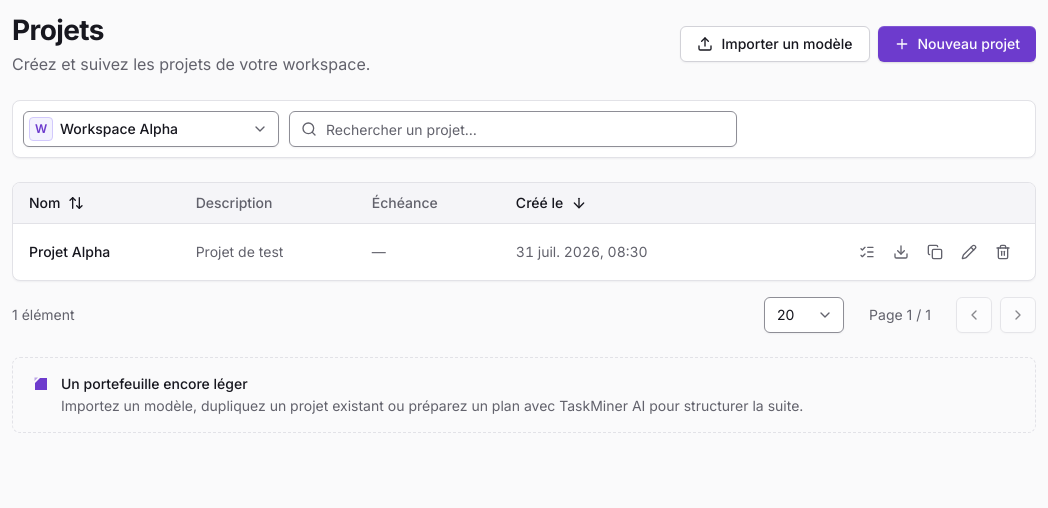
ProjectsPage › switches project, permission and quota context from owner to member and back
Check: the text "Projet Alpha" is shown, box [29,242,110,260]
Check: the button "Nouveau projet" is enabled, box [878,26,1036,62]
Select "Workspace invité" in the dropdown named "Workspace actif" at (151, 129), box [23,111,279,147]
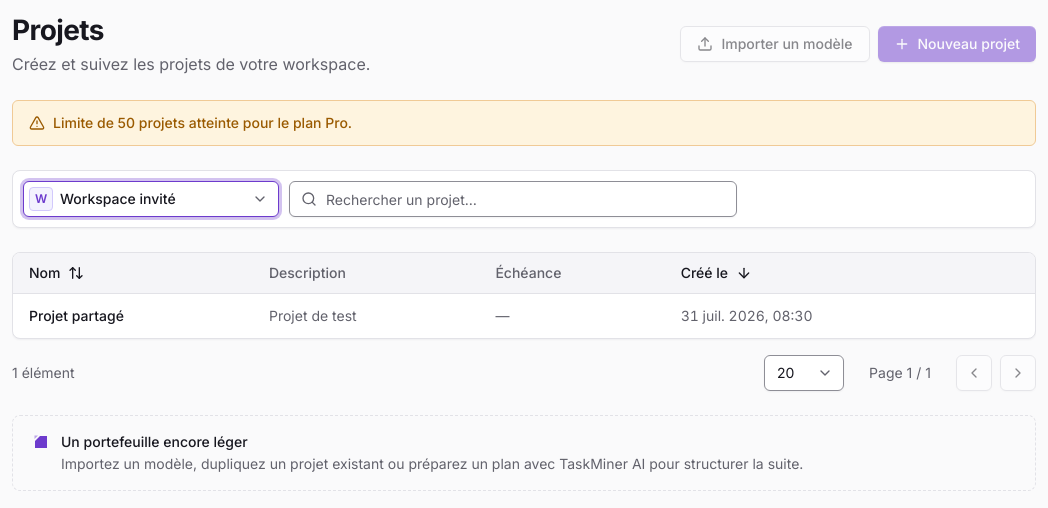
Check: the text "Projet partagé" is shown, box [29,306,124,324]
Check: the text "Projet Alpha" is gone
Check: the text "Limite de 50 projets atteinte pour le plan Pro." is shown, box [12,100,1036,146]
Select "Workspace Alpha" in the dropdown named "Workspace actif" at (151, 199), box [23,181,279,217]
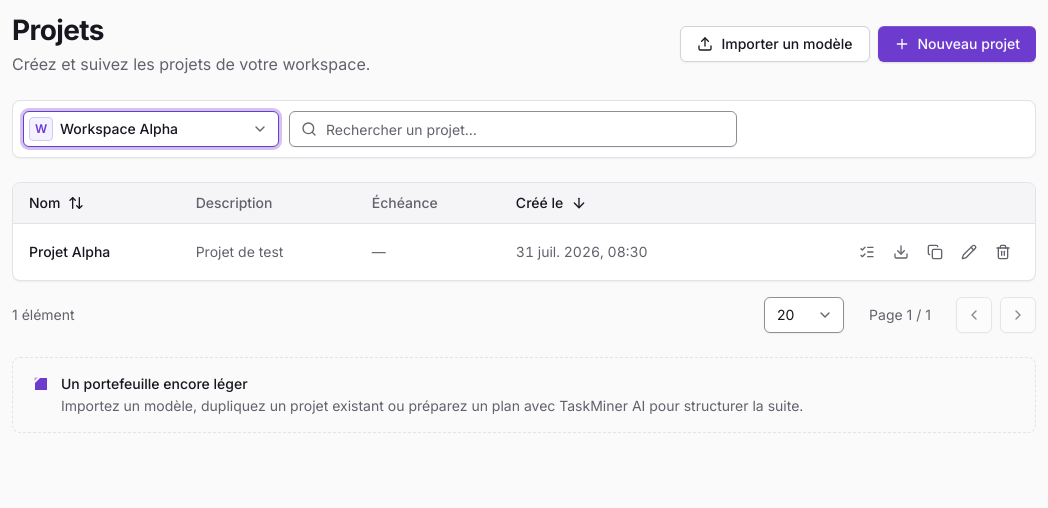
Check: the text "Projet Alpha" is shown, box [29,242,110,260]
Check: the text "Projet partagé" is gone
Check: the button "Nouveau projet" is enabled, box [878,26,1036,62]
